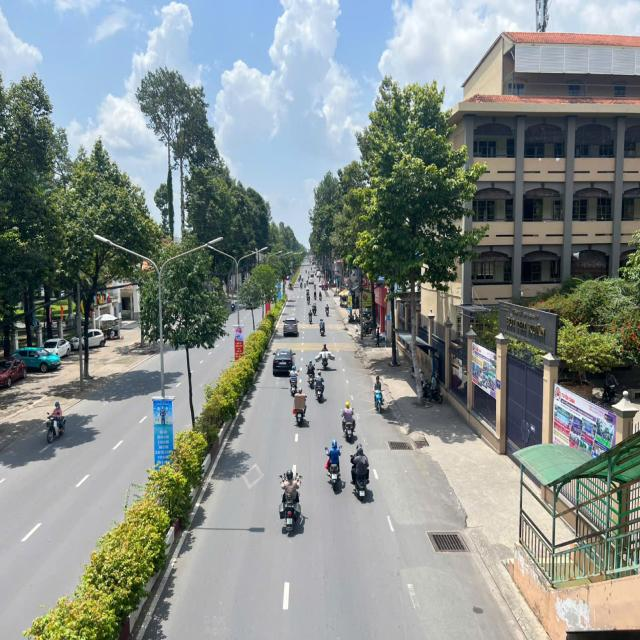car: (270, 345, 298, 380), (281, 311, 301, 340)
motobyte: (276, 467, 304, 534), (39, 398, 70, 448), (348, 442, 372, 504), (324, 438, 344, 496), (340, 398, 358, 446), (292, 384, 309, 427), (372, 370, 386, 415), (286, 362, 301, 400), (305, 357, 319, 393), (313, 369, 326, 405), (319, 341, 331, 373), (317, 316, 327, 337), (306, 305, 315, 326), (324, 300, 331, 318)
